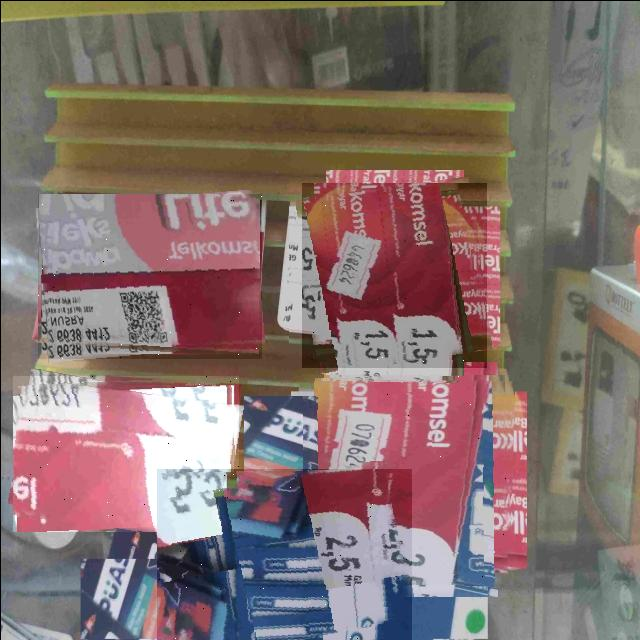Gratis Nelpon: (156, 468, 411, 640)
Telkomsel: (302, 374, 513, 584), (37, 193, 261, 358), (12, 375, 238, 531), (301, 182, 486, 367)
